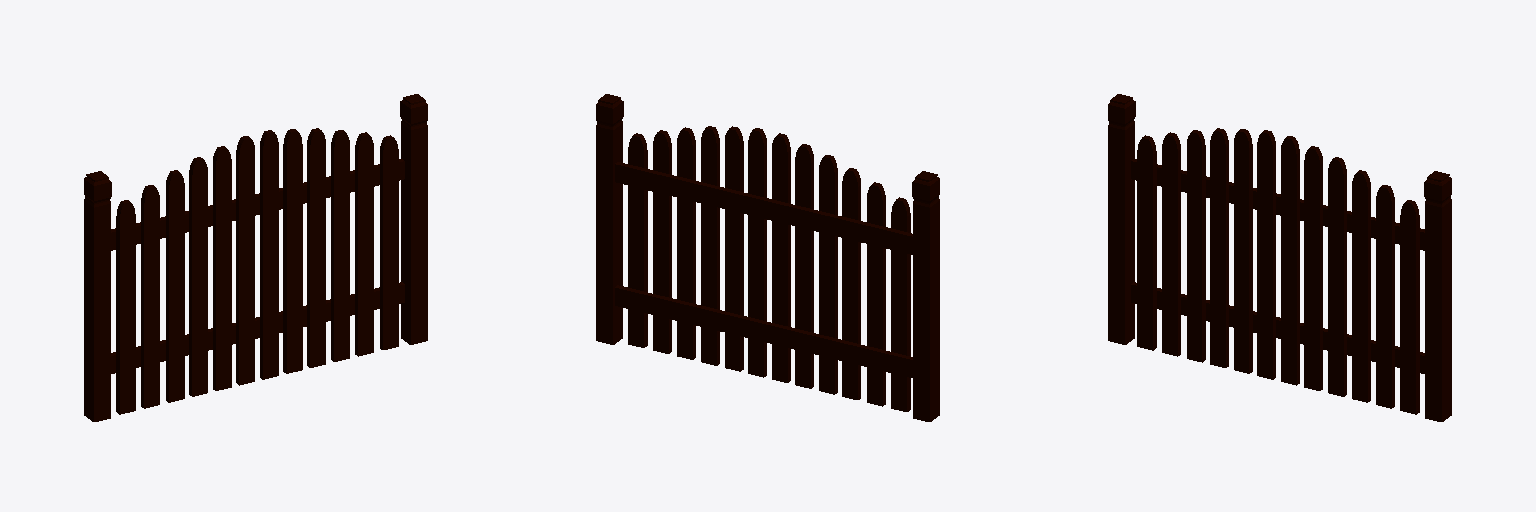
The model's file is Fence-04.obj.
3 views of the same model, side by side, from view 1: azimuth 30°, elevation 25°; view 2: azimuth 150°, elevation 25°; view 3: azimuth 330°, elevation 25° (orthographic).
Parts seen in each view (by area): view 1: fencee_Cube.016; view 2: fencee_Cube.016; view 3: fencee_Cube.016.
Boxes of the visible parts, x1,y1,x2,y2 form: fencee_Cube.016: [84, 94, 427, 421]; fencee_Cube.016: [596, 94, 939, 421]; fencee_Cube.016: [1108, 94, 1451, 421].
Bounding box in the file's own units: 6.09 × 4.26 × 0.3218.